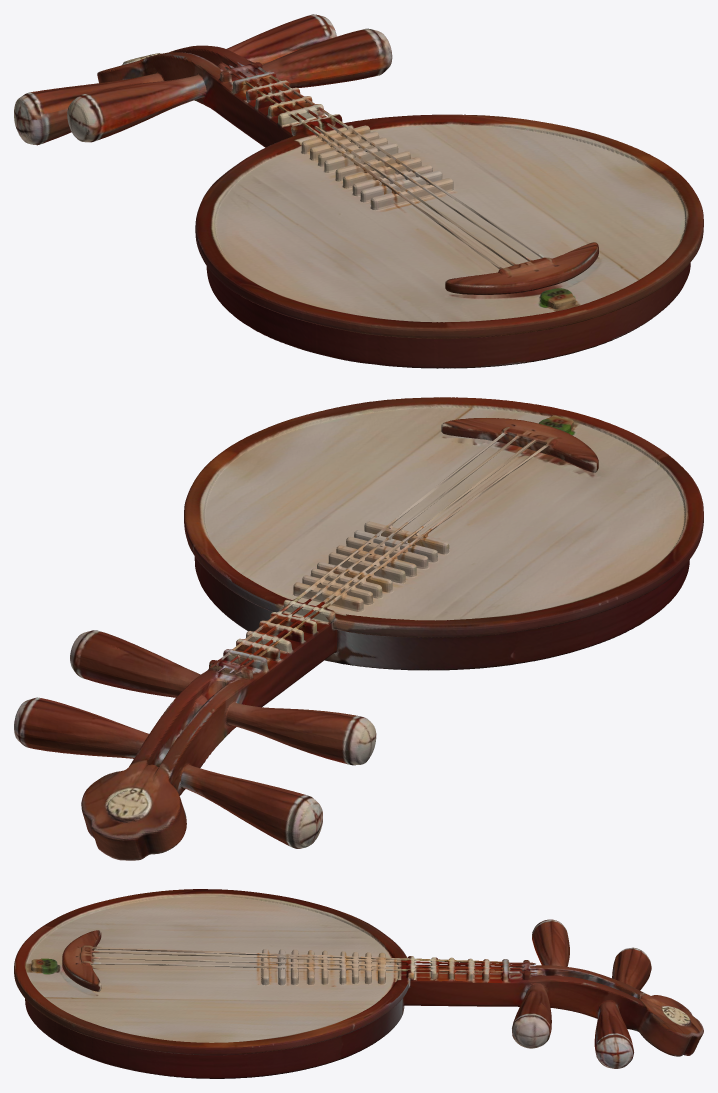
Rendered from yueqin.glb.
The picture shows the model from 3 angles, top to bottom: view 1: azimuth 30°, elevation 25°; view 2: azimuth 150°, elevation 25°; view 3: azimuth 270°, elevation 25°; orthographic projection. The views are drawn at different scales.
Parts seen in each view (by area): view 1: tripo_node_0debc58f-c69e-4118-8b50-4a3fbb239ecd; view 2: tripo_node_0debc58f-c69e-4118-8b50-4a3fbb239ecd; view 3: tripo_node_0debc58f-c69e-4118-8b50-4a3fbb239ecd.
Boxes of the visible parts, x1,y1,x2,y2 form: tripo_node_0debc58f-c69e-4118-8b50-4a3fbb239ecd: [14, 14, 703, 368]; tripo_node_0debc58f-c69e-4118-8b50-4a3fbb239ecd: [14, 397, 703, 860]; tripo_node_0debc58f-c69e-4118-8b50-4a3fbb239ecd: [14, 889, 703, 1078].
Bounding box in the file's own units: 56.1 × 15.25 × 99.88.
1 material, 1 textured.
